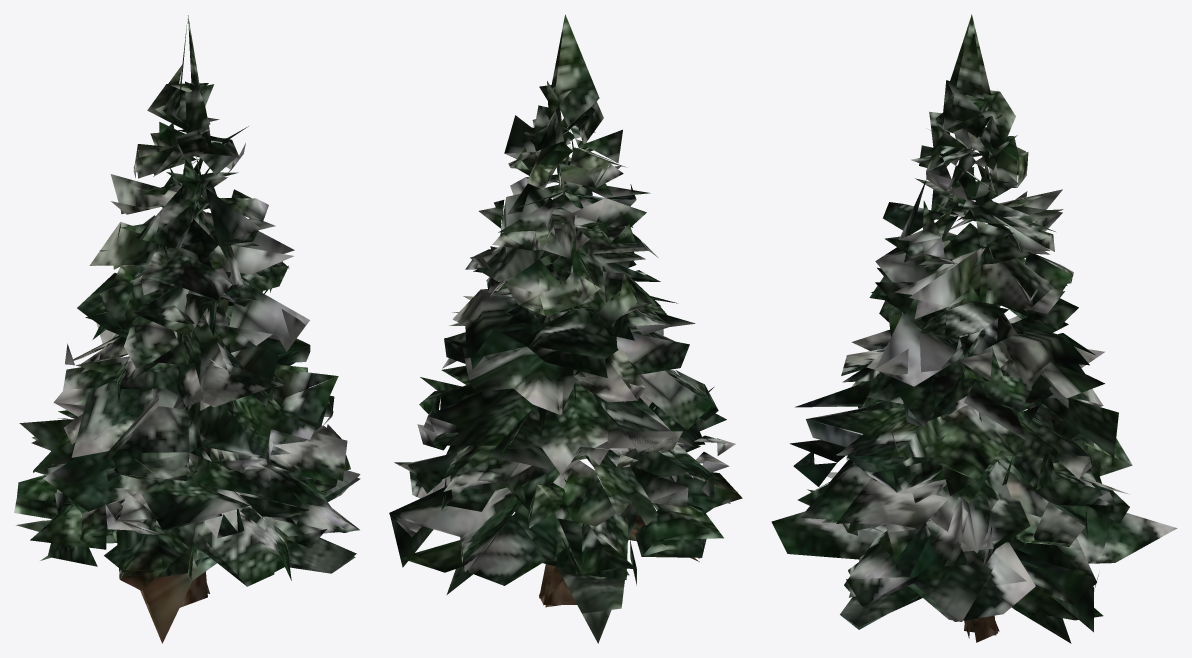
The model's file is snowpine.glb.
The picture shows the model from 3 angles, left to right: view 1: azimuth 30°, elevation 25°; view 2: azimuth 150°, elevation 25°; view 3: azimuth 270°, elevation 25°; orthographic projection. The views are drawn at different scales.
Parts seen in each view (by area): view 1: geometry_0; view 2: geometry_0; view 3: geometry_0.
Boxes of the visible parts, <box> form: geometry_0: <box>14,15,360,643</box>; geometry_0: <box>389,14,742,643</box>; geometry_0: <box>771,14,1177,643</box>.
Size of the model in its own units: 4.1 by 7.09 by 4.2.
Materials: 1 (1 with a texture image).
